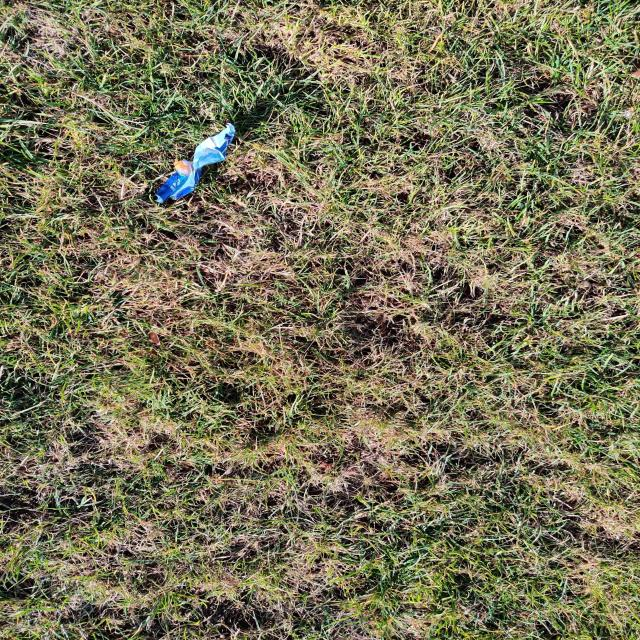litter: (139, 110, 252, 217)
